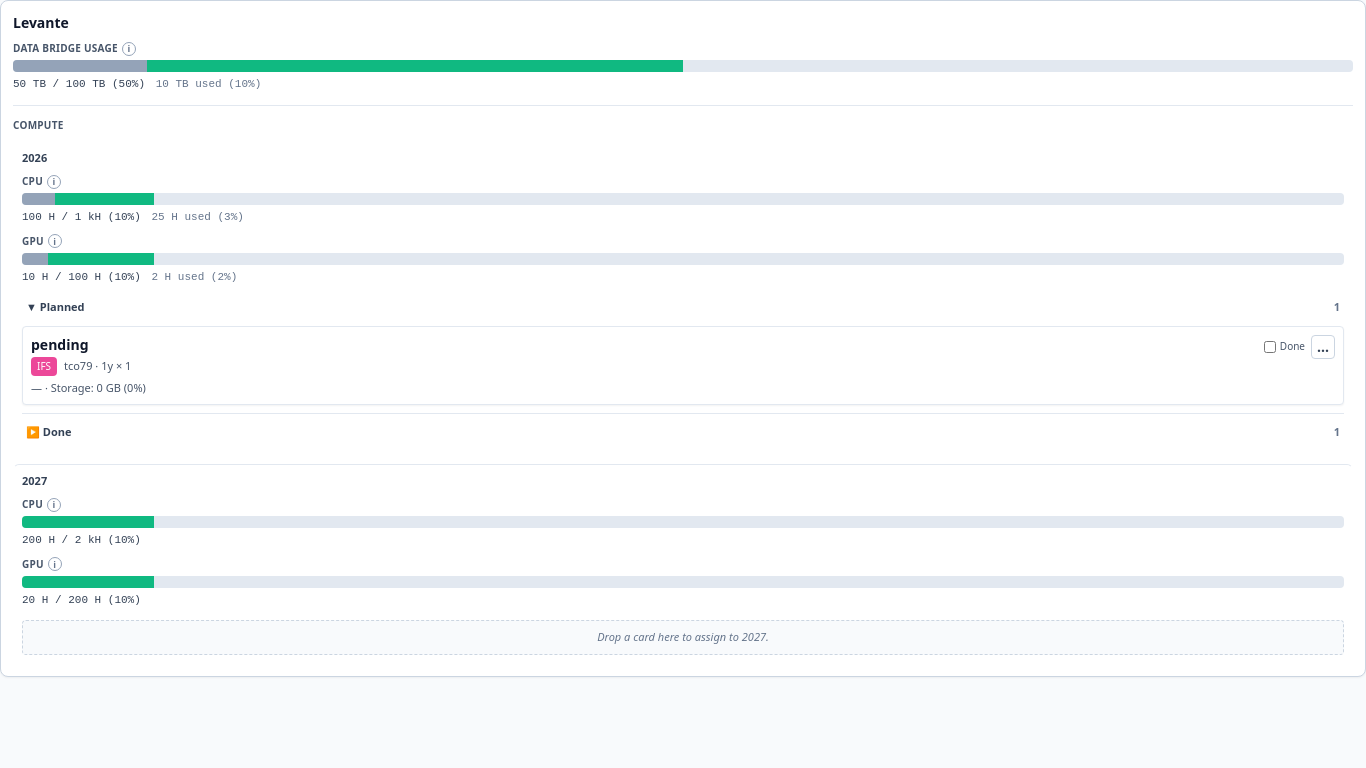
it: HpcLane › separates completed sims into a collapsable Done section within their period
Click the button with test id "period-toggle-done".
click(49, 432)  # box [22,422,1344,442]
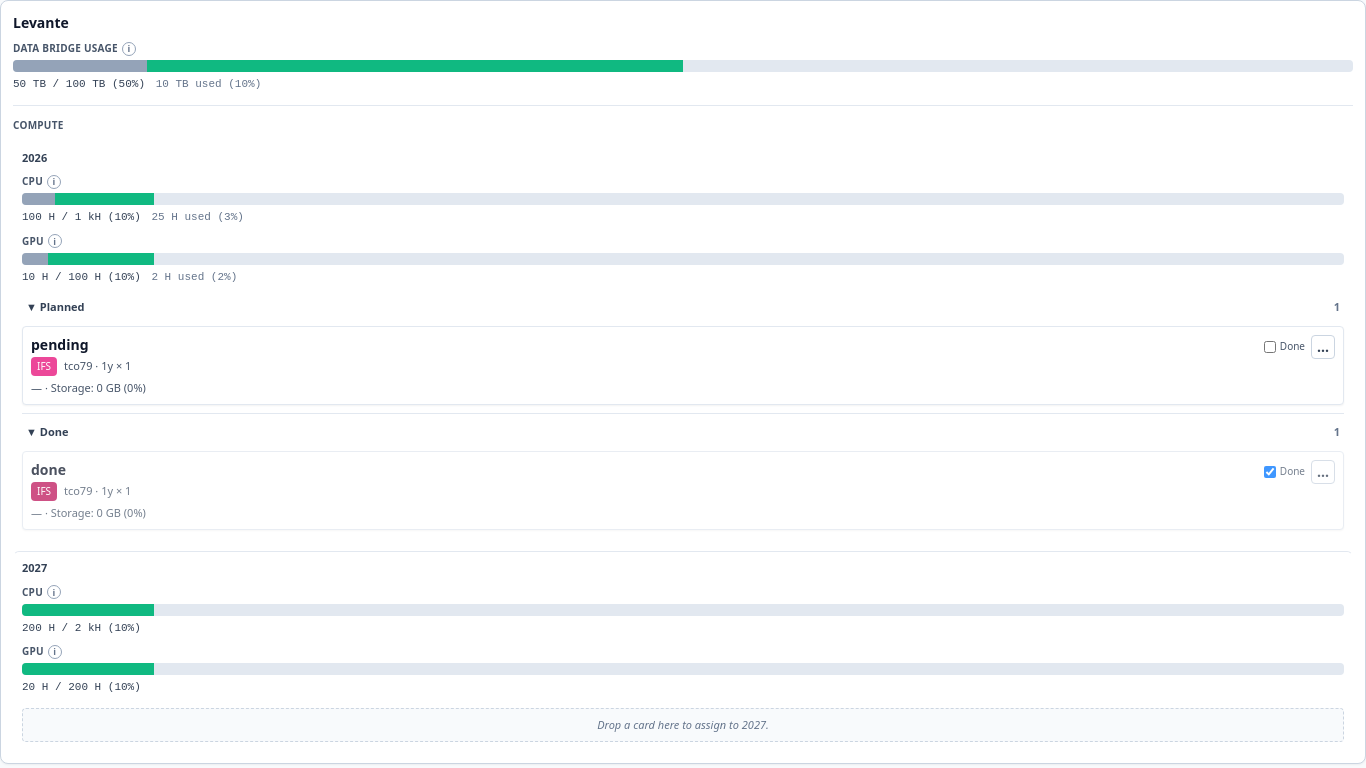
Click the button with test id "period-toggle-done".
click(47, 432)  # box [22,422,1344,442]
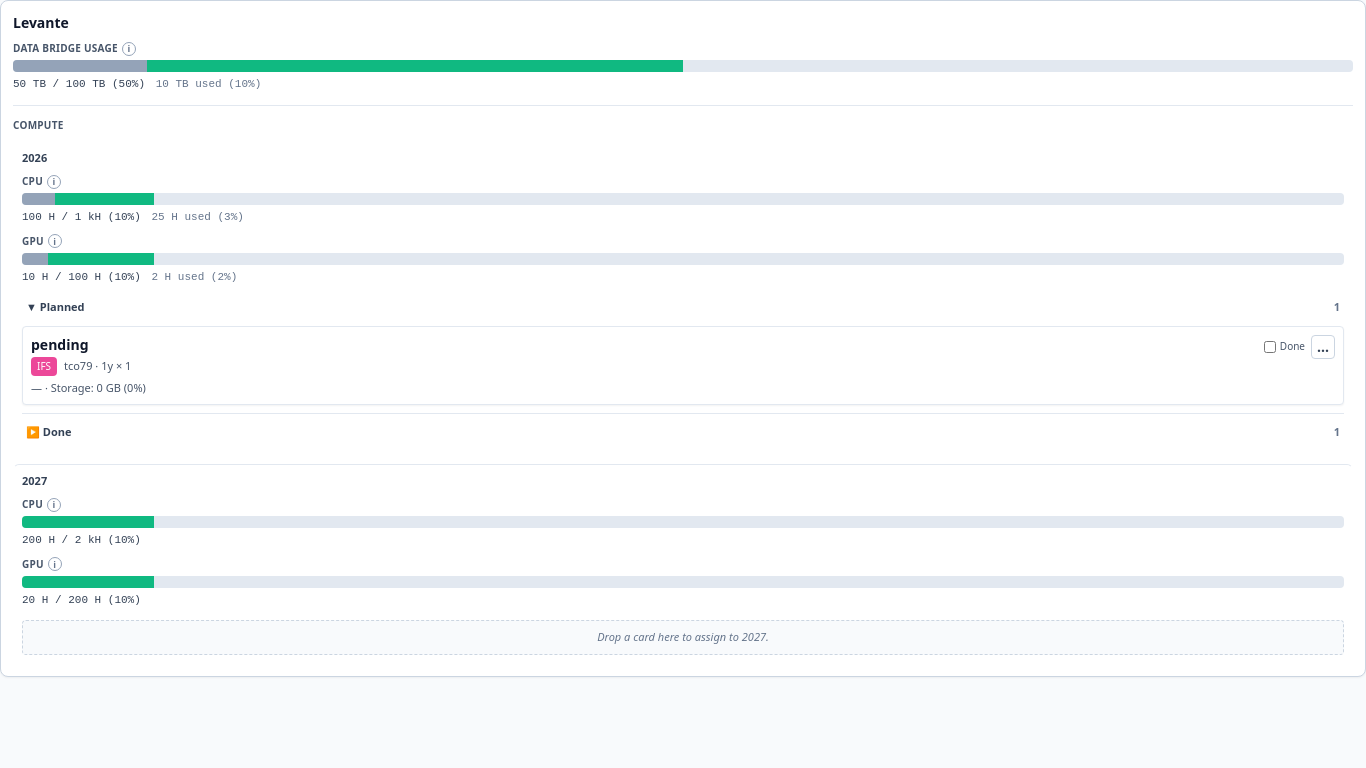
Now the element with test id "period-done-section" is gone
